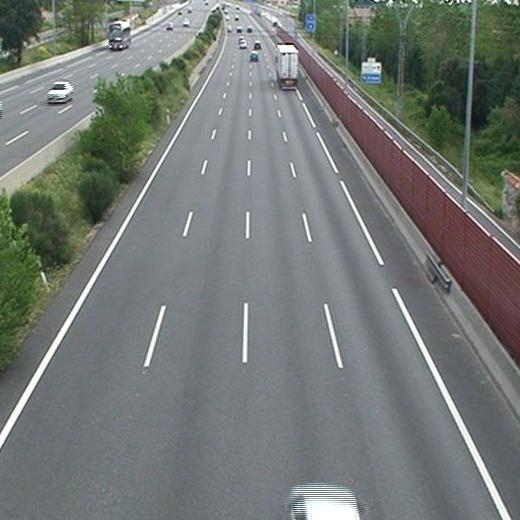car: (249, 51, 258, 61)
truck: (276, 45, 297, 89)
